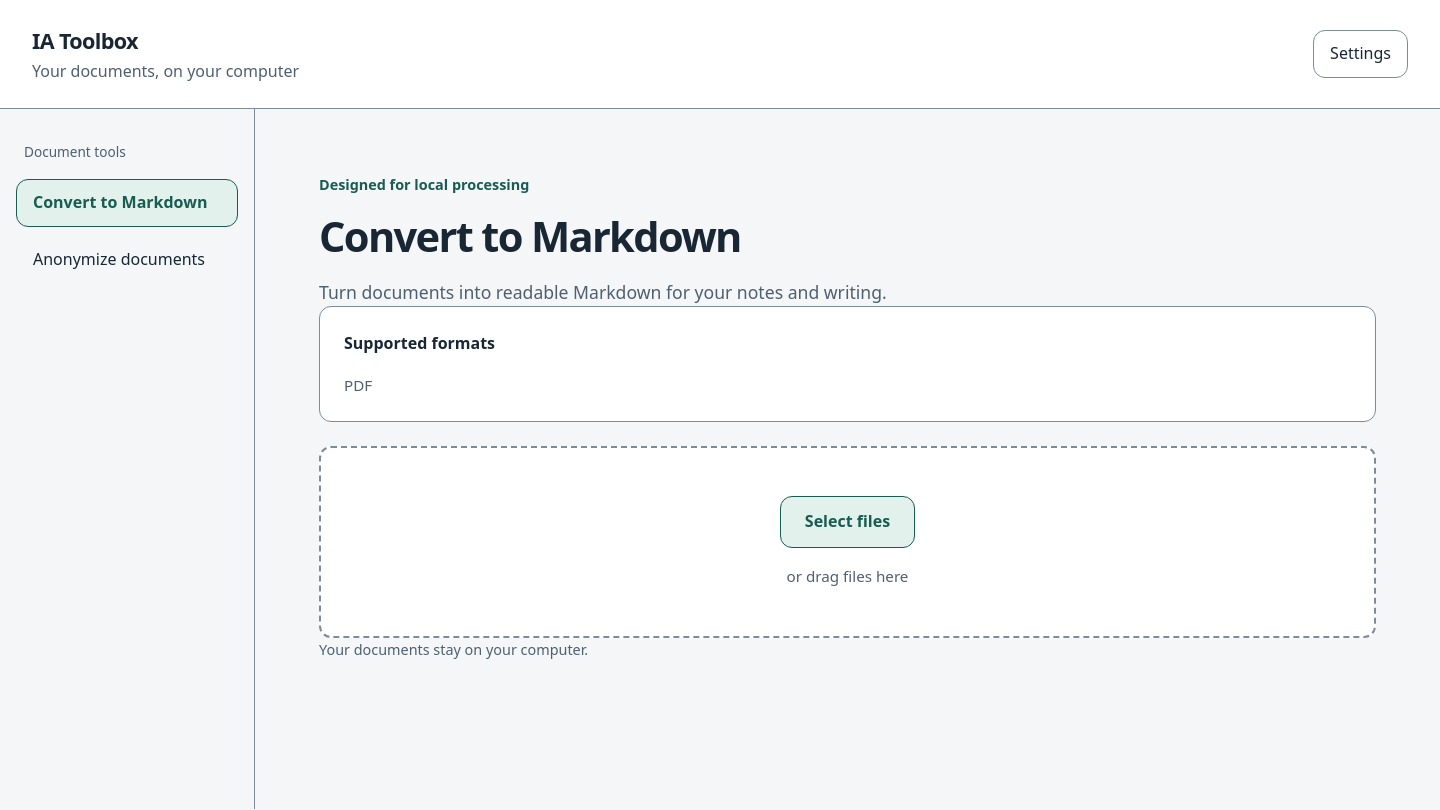
opens a labelled settings dialog, closes on Escape and returns focus
The image size is (1440, 810).
Click the button "Settings" at (1361, 54), box [1313,30,1408,78]
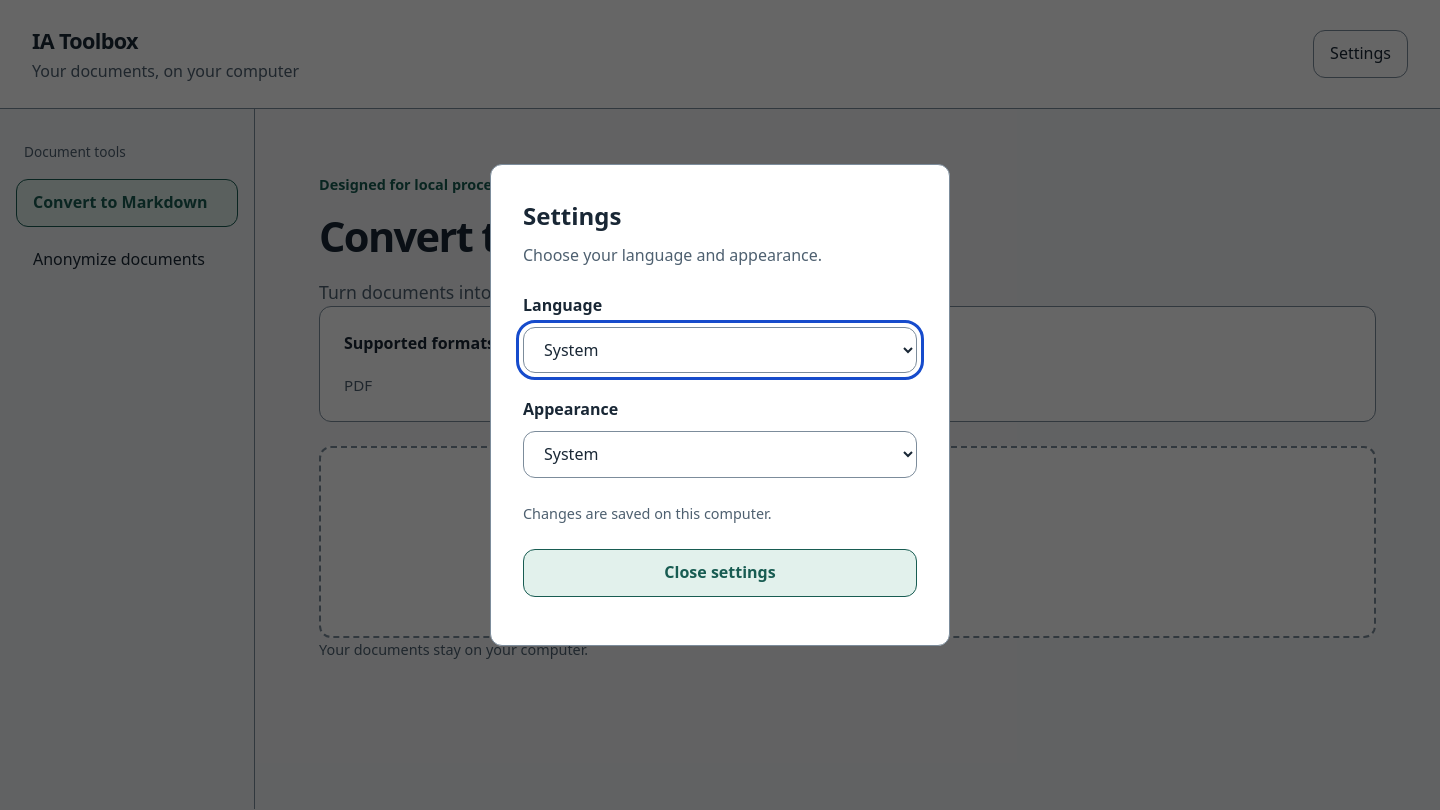
Press Escape in the dialog "Settings", box [490,164,950,646]
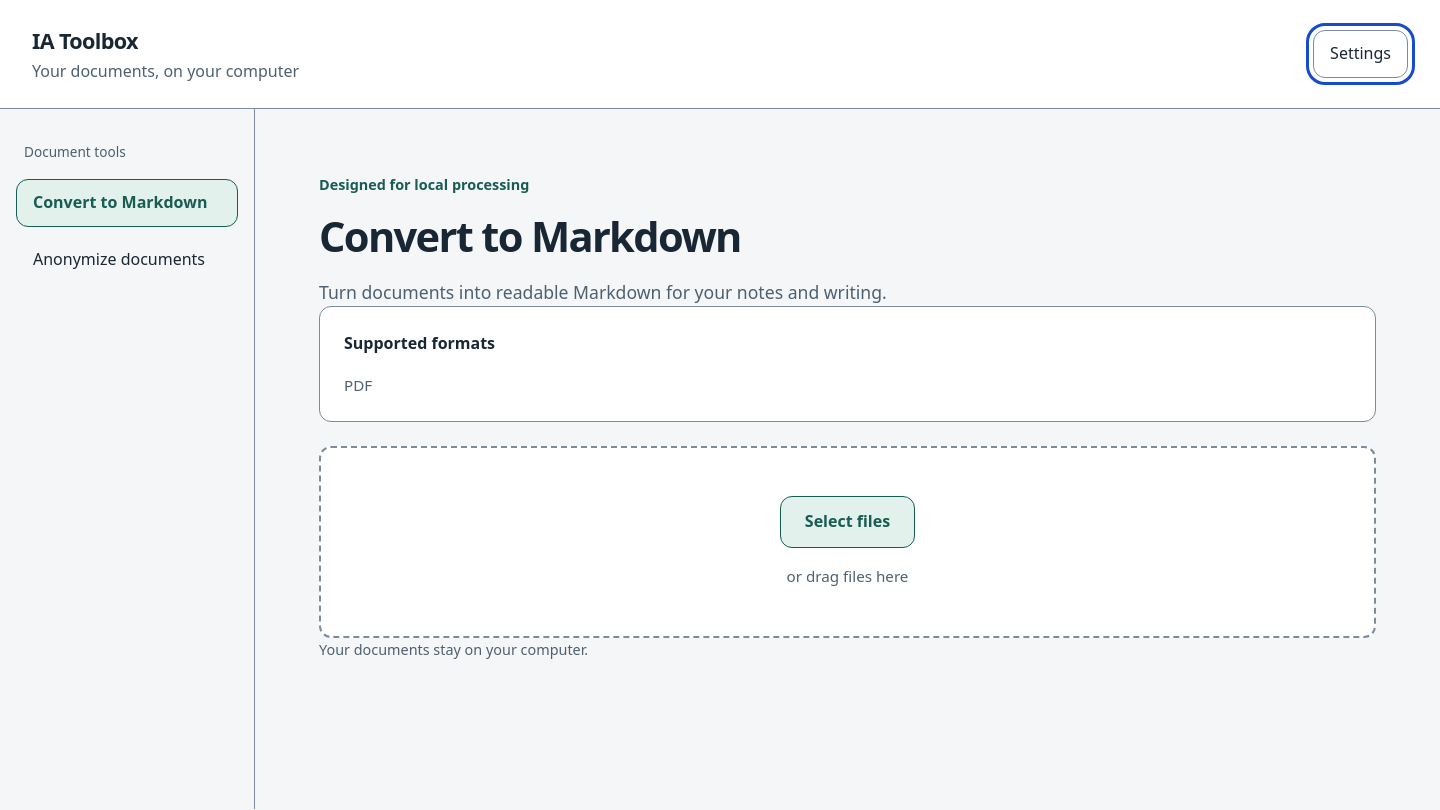
Now the dialog is gone
